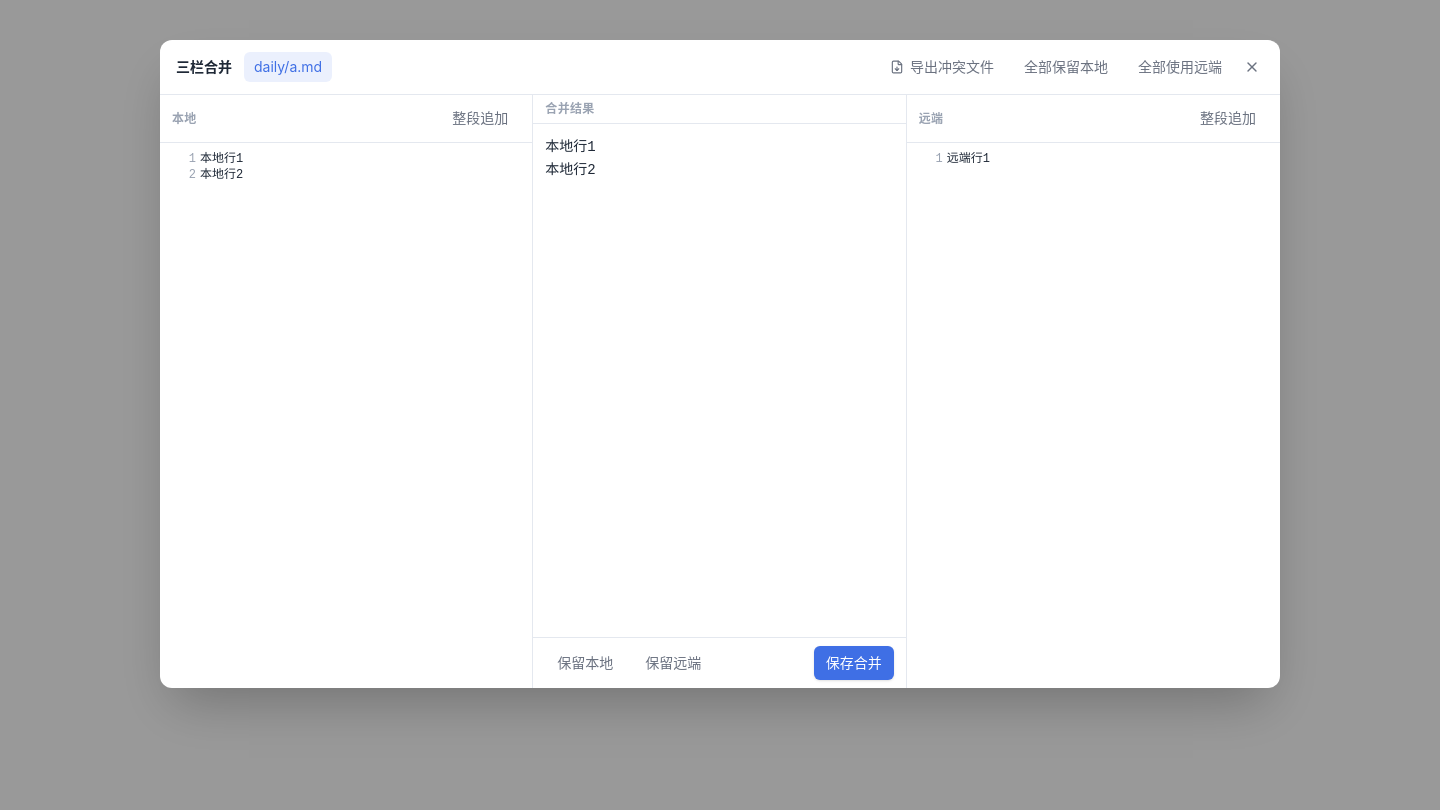
ConflictMergeDialog 一步解决与失败反馈 › 解决失败时回显原因与重试入口，不再静默无反应
The width and height of the screenshot is (1440, 810).
Expected: the text "本地行1" is shown, [200, 152, 243, 166]
Click the button "保留远端": (673, 663) [633, 646, 713, 680]
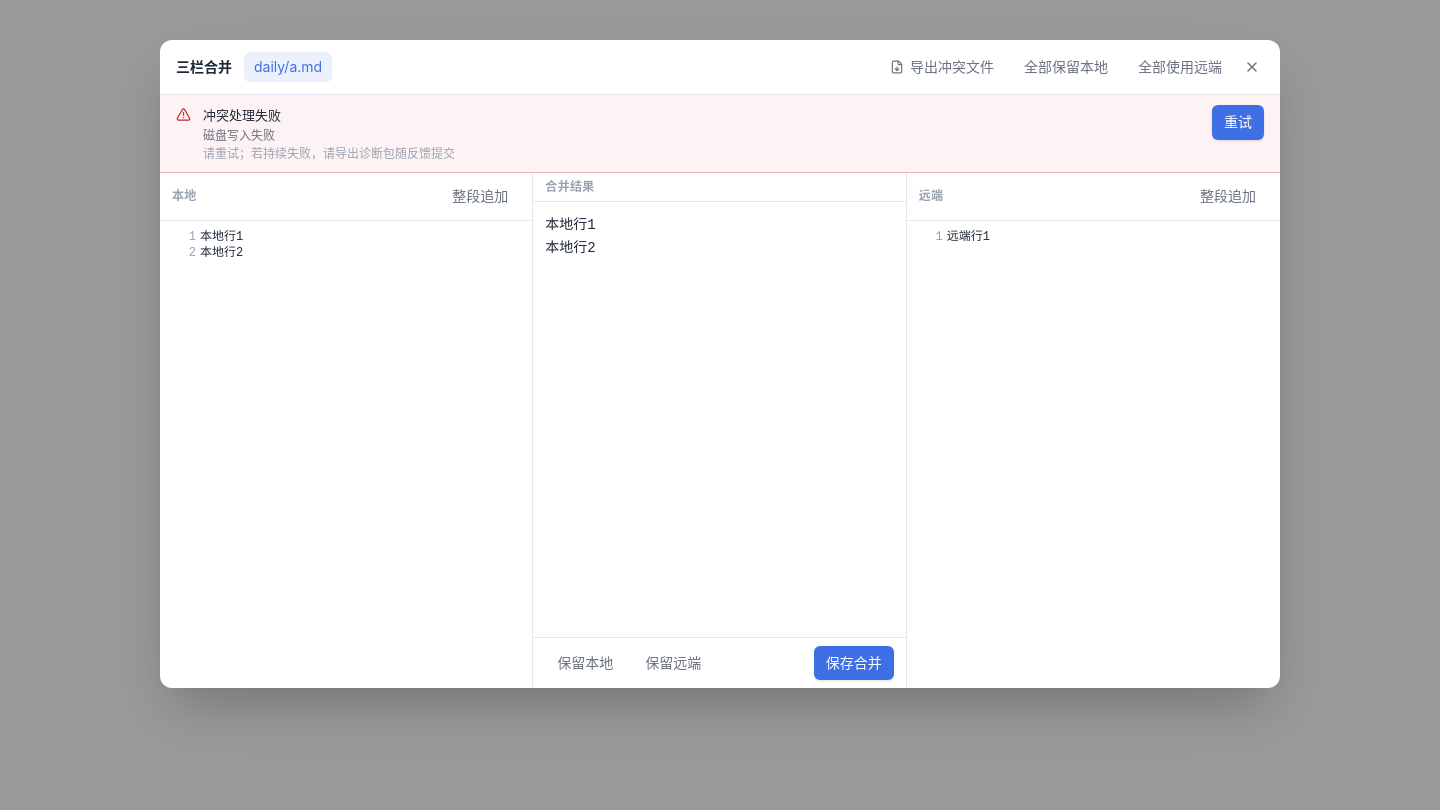
Now the text "冲突处理失败" is shown, box [203, 107, 281, 123]
Now the text "磁盘写入失败" is shown, box [203, 128, 275, 143]
Now the button "重试" is shown, box [1212, 105, 1264, 140]
